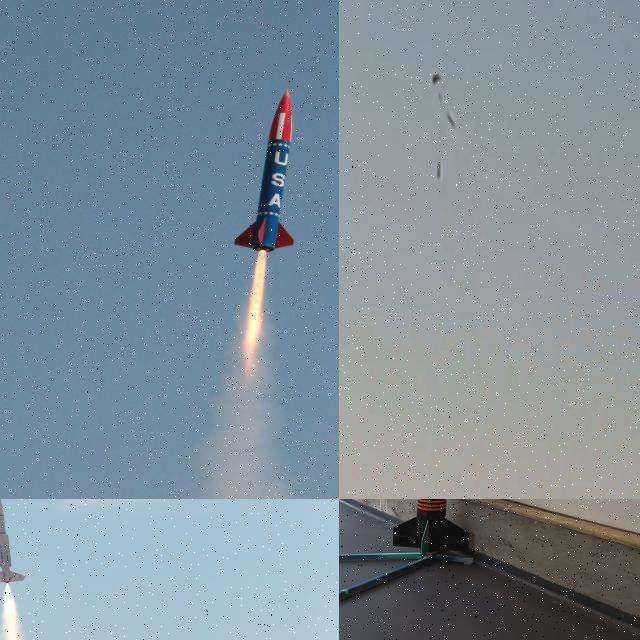Rocket: (232, 88, 296, 254), (393, 499, 469, 561), (0, 499, 28, 583), (436, 160, 442, 180)
